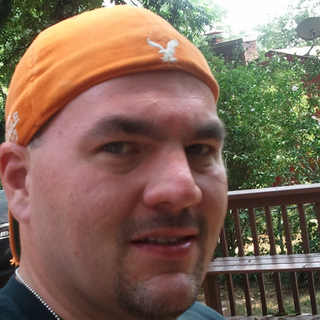eye: (90, 138, 140, 162), (182, 139, 220, 164)
